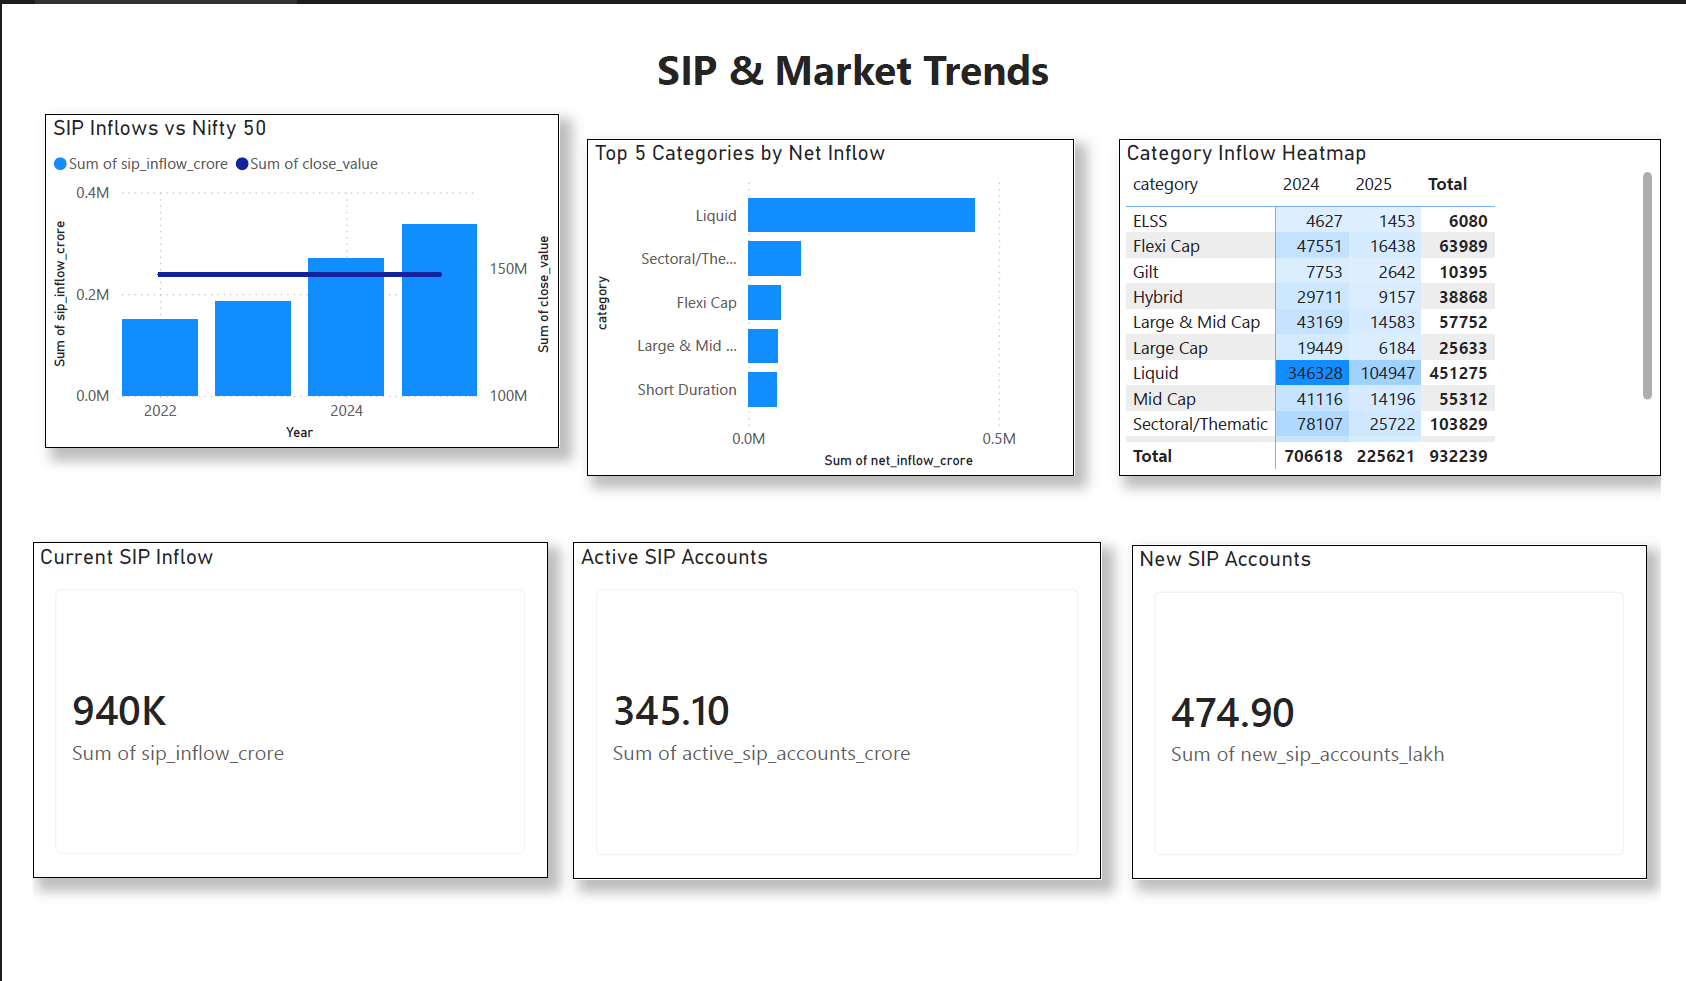

This screenshot's page, from the dashboard's own definition file:
{"tool":"powerbi","page":{"name":"Page 4","canvas":[1280,720],"ordinal":3},"visuals":[{"type":"textbox","box":[9.8,0,1270.5,280],"z":0},{"type":"lineClusteredColumnComboChart","title":"SIP Inflows vs Nifty 50","fields":{"Category":["04_monthly_sip_inflows.month.Variation.Date Hierarchy.Year","04_monthly_sip_inflows.month.Variation.Date Hierarchy.Quarter","04_monthly_sip_inflows.month.Variation.Date Hierarchy.Month","04_monthly_sip_inflows.month.Variation.Date Hierarchy.Day"],"Y":["Sum(04_monthly_sip_inflows.sip_inflow_crore)"],"Y2":["Sum(10_benchmark_indices.close_value)"]},"box":[9.6,61.7,404.8,263.5],"z":1},{"type":"clusteredBarChart","title":"Top 5 Categories by Net Inflow","fields":{"Category":["05_category_inflows.category"],"Y":["Sum(05_category_inflows.net_inflow_crore)"]},"box":[436.4,82.3,382.8,264.8],"z":2},{"type":"pivotTable","title":"Category Inflow Heatmap","fields":{"Rows":["05_category_inflows.category"],"Columns":["05_category_inflows.month.Variation.Date Hierarchy.Year","05_category_inflows.month.Variation.Date Hierarchy.Quarter","05_category_inflows.month.Variation.Date Hierarchy.Month","05_category_inflows.month.Variation.Date Hierarchy.Day"],"Values":["Sum(05_category_inflows.net_inflow_crore)"]},"box":[853.5,82.3,426.8,264.8],"z":3},{"type":"cardVisual","title":"Current SIP Inflow","fields":{"Data":["Sum(04_monthly_sip_inflows.sip_inflow_crore)"]},"box":[0,399.3,404.8,263.5],"z":4},{"type":"cardVisual","title":"New SIP Accounts","fields":{"Data":["Sum(04_monthly_sip_inflows.new_sip_accounts_lakh)"]},"box":[864.5,400.7,404.8,263.5],"z":5},{"type":"cardVisual","title":"Active SIP Accounts","fields":{"Data":["Sum(04_monthly_sip_inflows.active_sip_accounts_crore)"]},"box":[425.4,399.3,414.4,264.8],"z":6}]}

Visuals, with their boxes on the page's 1280x720 design canvas (x1, y1, x2, y2). These are canvas units, not pixel positions in the 1686x981 screenshot, which may show the page scaled, cropped or inside an application window:
textbox: [x1=10, y1=0, x2=1280, y2=280]
"SIP Inflows vs Nifty 50" lineClusteredColumnComboChart: [x1=10, y1=62, x2=414, y2=325]
"Top 5 Categories by Net Inflow" clusteredBarChart: [x1=436, y1=82, x2=819, y2=347]
"Category Inflow Heatmap" pivotTable: [x1=854, y1=82, x2=1280, y2=347]
"Current SIP Inflow" cardVisual: [x1=0, y1=399, x2=405, y2=663]
"New SIP Accounts" cardVisual: [x1=864, y1=401, x2=1269, y2=664]
"Active SIP Accounts" cardVisual: [x1=425, y1=399, x2=840, y2=664]
